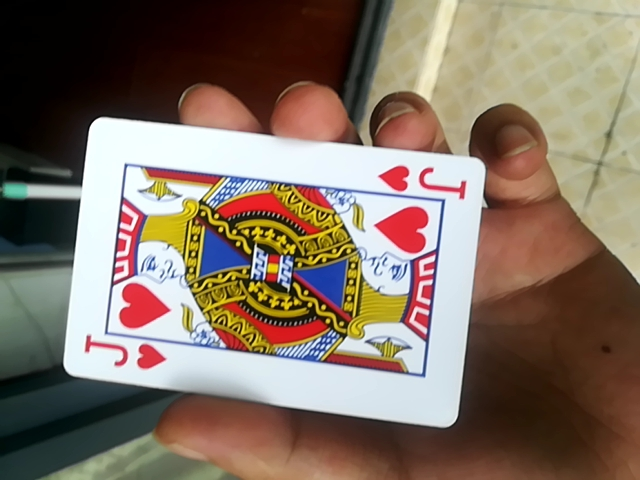hx j: (60, 114, 492, 433)
